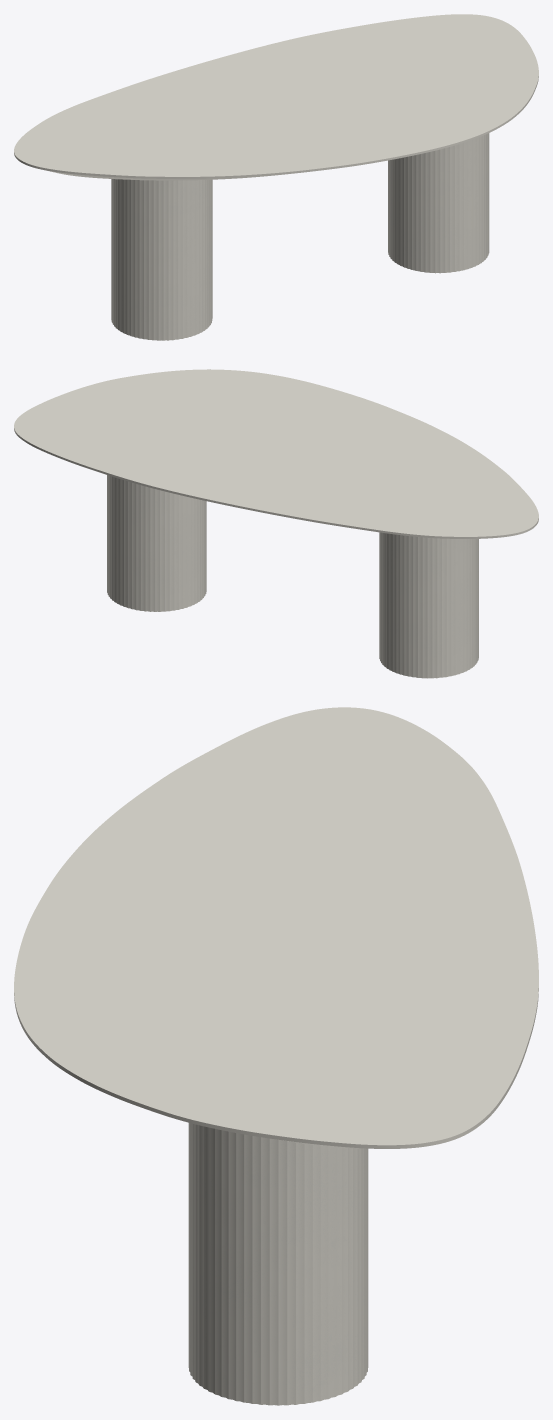
The model's file is pale_pebbletop_facet_ripplesecond.glb.
3 views of the same model, one above another, from view 1: azimuth 30°, elevation 25°; view 2: azimuth 150°, elevation 25°; view 3: azimuth 270°, elevation 25° (orthographic). The views are drawn at different scales.
Visible parts, largest first — view 1: facet_pebbletop, ripplesecond; view 2: facet_pebbletop, ripplesecond; view 3: facet_pebbletop, ripplesecond.
Boxes of the visible parts, x1,y1,x2,y2 form: facet_pebbletop: [14, 14, 538, 180]; ripplesecond: [111, 133, 489, 340]; facet_pebbletop: [14, 369, 538, 538]; ripplesecond: [107, 475, 478, 678]; facet_pebbletop: [14, 707, 538, 1148]; ripplesecond: [188, 1123, 368, 1405].
Bounding box in the file's own units: 7.5 × 2.5 × 3.8.
Materials: 1 (1 with a texture image).
